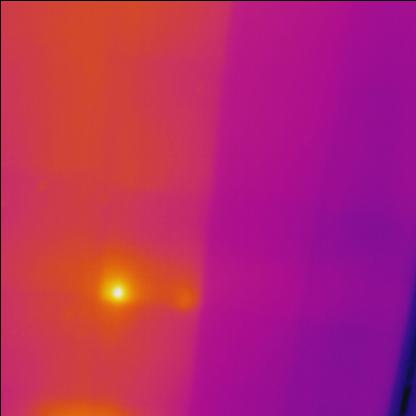hotspot: (94, 274, 138, 314)
